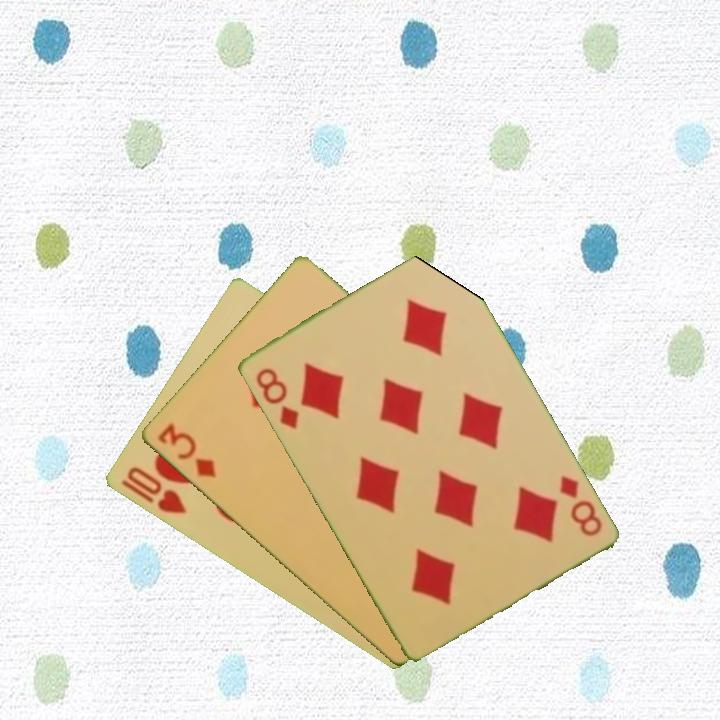10h: (122, 463, 189, 517)
3d: (153, 420, 219, 482)
8d: (251, 364, 301, 432), (555, 471, 605, 539)
